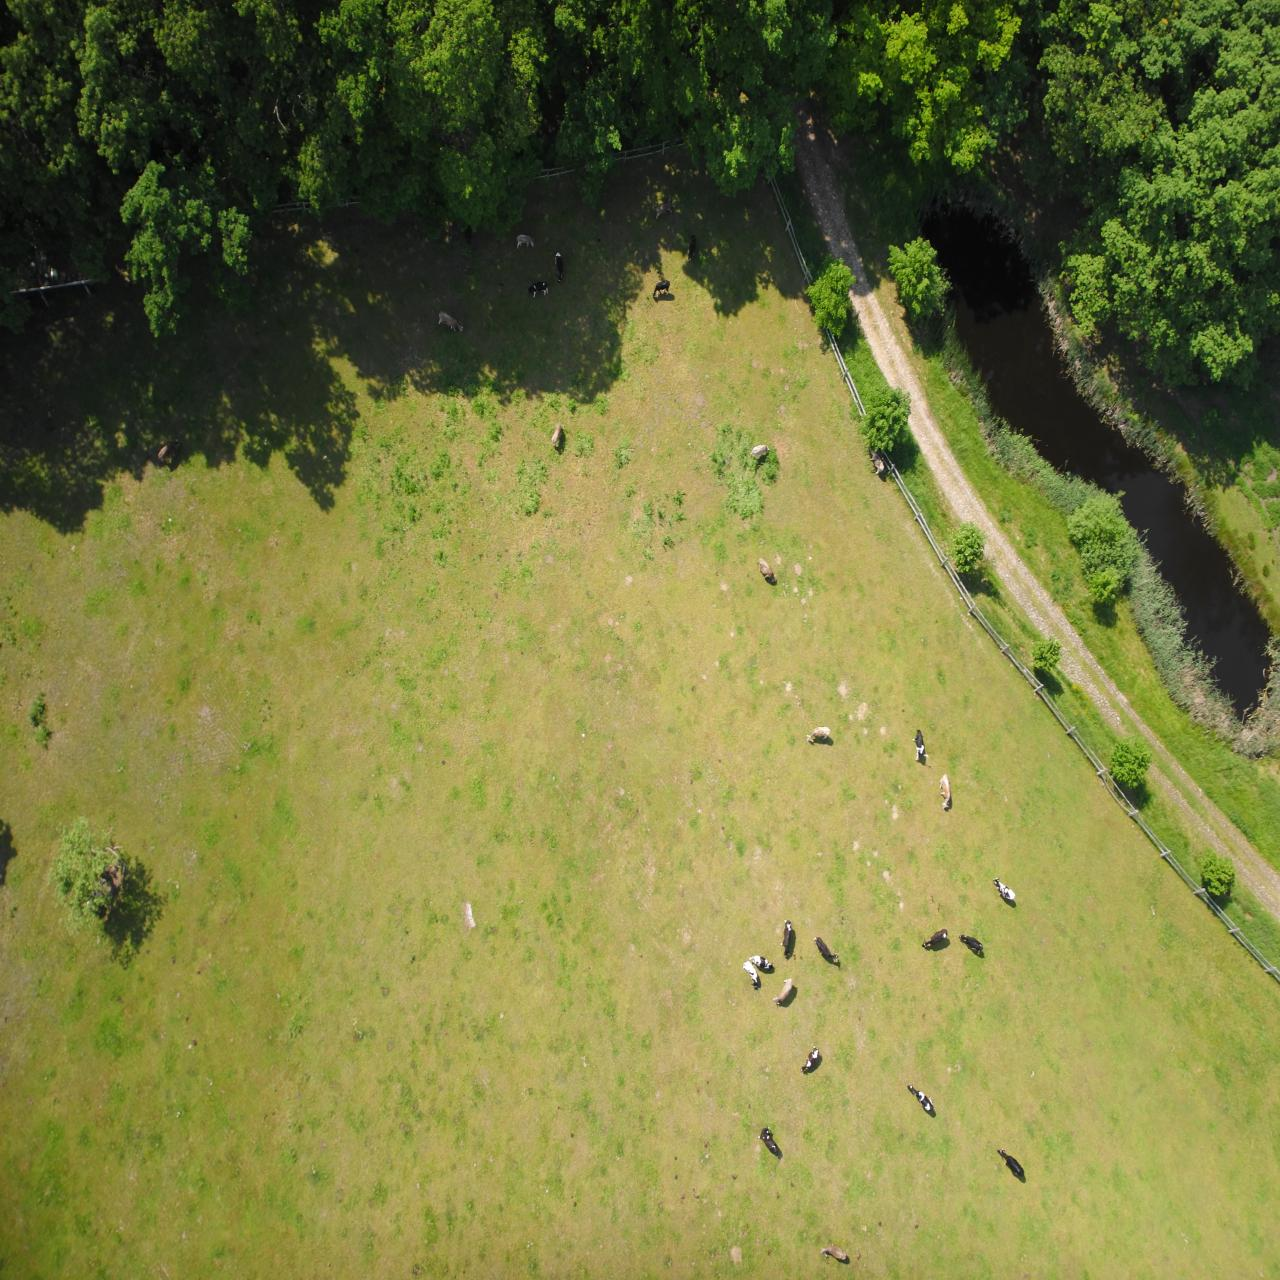cow: (347, 169, 372, 197), (441, 318, 467, 343), (257, 103, 281, 130), (488, 273, 506, 301), (332, 331, 358, 350), (503, 125, 522, 152), (352, 518, 367, 551), (265, 380, 286, 402), (461, 206, 479, 231), (434, 19, 459, 36), (486, 320, 498, 358), (504, 699, 522, 722), (522, 292, 537, 319), (449, 537, 474, 553), (329, 470, 340, 506), (297, 329, 321, 345), (395, 806, 410, 830), (506, 311, 530, 325), (717, 835, 729, 857), (511, 822, 529, 835)
